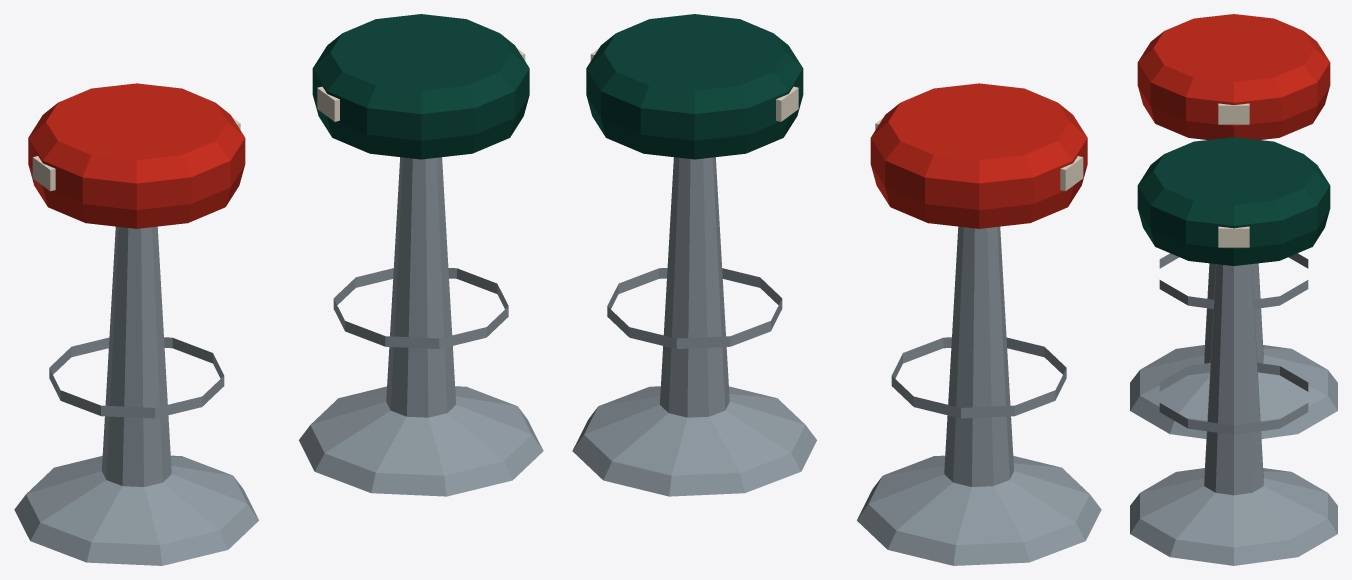
The model's file is cozy_bowling_arcade_stool_pair.obj.
3 views of the same model, side by side, from view 1: azimuth 30°, elevation 25°; view 2: azimuth 150°, elevation 25°; view 3: azimuth 270°, elevation 25° (orthographic). The views are drawn at different scales.
Parts seen in each view (by area): view 1: Stools_Mesh; view 2: Stools_Mesh; view 3: Stools_Mesh.
Part boxes in pixels (left/top/right/bottom): Stools_Mesh: left=14, top=14, right=543, bottom=565; Stools_Mesh: left=572, top=14, right=1101, bottom=565; Stools_Mesh: left=1130, top=14, right=1337, bottom=565.
Bounding box in the file's own units: 0.98 × 0.74 × 0.3994.
